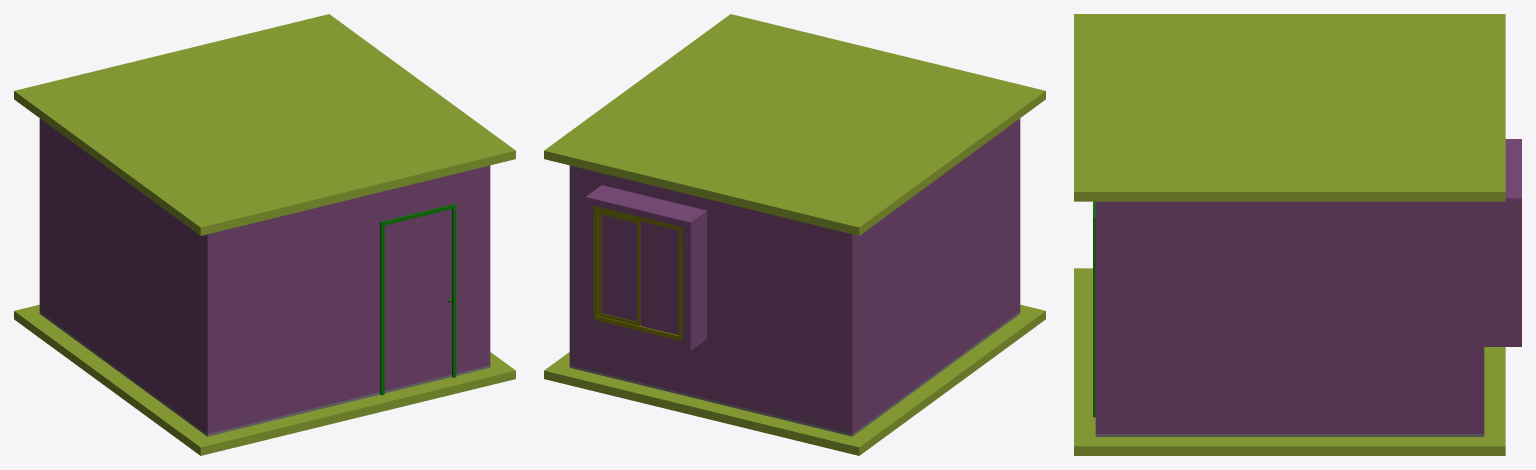
The model's file is FloorPlan302.fbx.
3 renders of one model, left to right at view 1: azimuth 30°, elevation 25°; view 2: azimuth 150°, elevation 25°; view 3: azimuth 270°, elevation 25°, orthographic. The views are drawn at different scales.
Parts seen in each view (by area): view 1: StandardWallSize, Ceiling, Floor, StandardDoorFrame1; view 2: StandardWallSize, Ceiling, Floor, StandardWindow3; view 3: StandardWallSize, Ceiling, Floor, StandardDoorFrame1.
Boxes of the visible parts, x1,y1,x2,y2 form: StandardWallSize: [39, 118, 490, 436]; Ceiling: [14, 14, 515, 235]; Floor: [14, 304, 515, 455]; StandardDoorFrame1: [380, 204, 456, 395]; StandardWallSize: [569, 118, 1020, 436]; Ceiling: [544, 14, 1045, 235]; Floor: [544, 304, 1045, 455]; StandardWindow3: [593, 205, 682, 341]; StandardWallSize: [1095, 139, 1521, 436]; Ceiling: [1074, 14, 1505, 201]; Floor: [1074, 268, 1505, 455]; StandardDoorFrame1: [1093, 201, 1095, 417].
Size of the model in its own units: 390 by 270 by 415.
